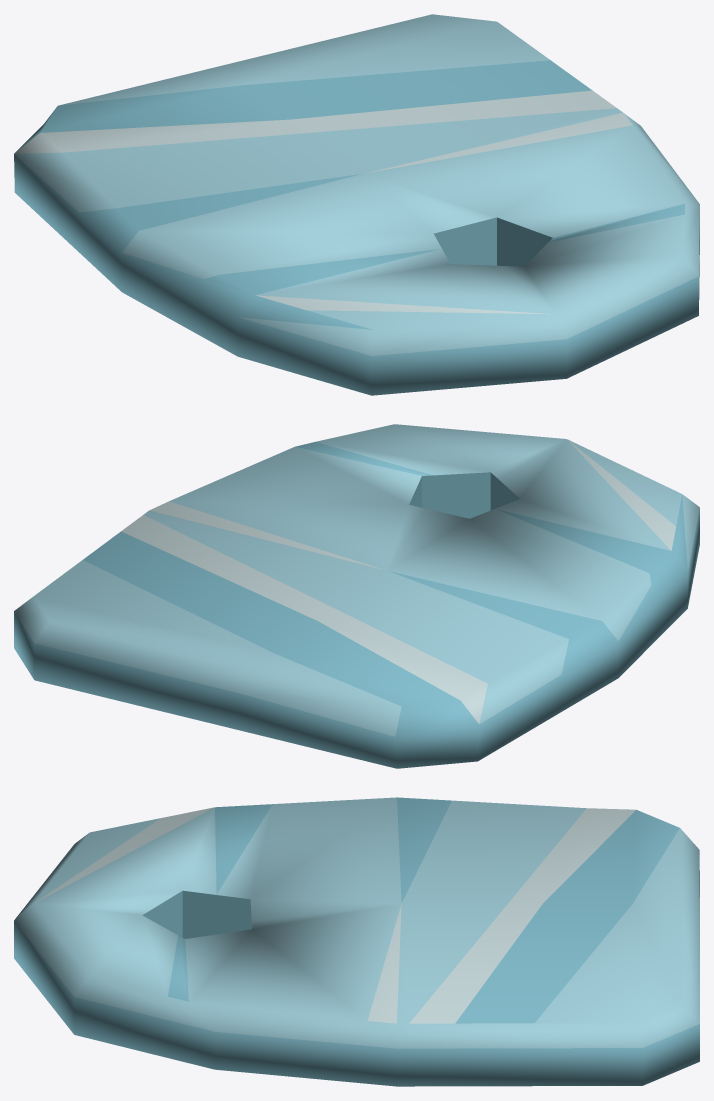
File: Glacier1.fbx
3 views of the same model, one above another, from view 1: azimuth 30°, elevation 25°; view 2: azimuth 150°, elevation 25°; view 3: azimuth 270°, elevation 25° (orthographic). The views are drawn at different scales.
Parts seen in each view (by area): view 1: Plane.097; view 2: Plane.097; view 3: Plane.097.
Boxes of the visible parts, box(x1,y1,x2,y2) form: Plane.097: box(14, 14, 699, 395); Plane.097: box(14, 424, 699, 768); Plane.097: box(14, 797, 699, 1086).
Bounding box in the file's own units: 952 × 101 × 1138.
